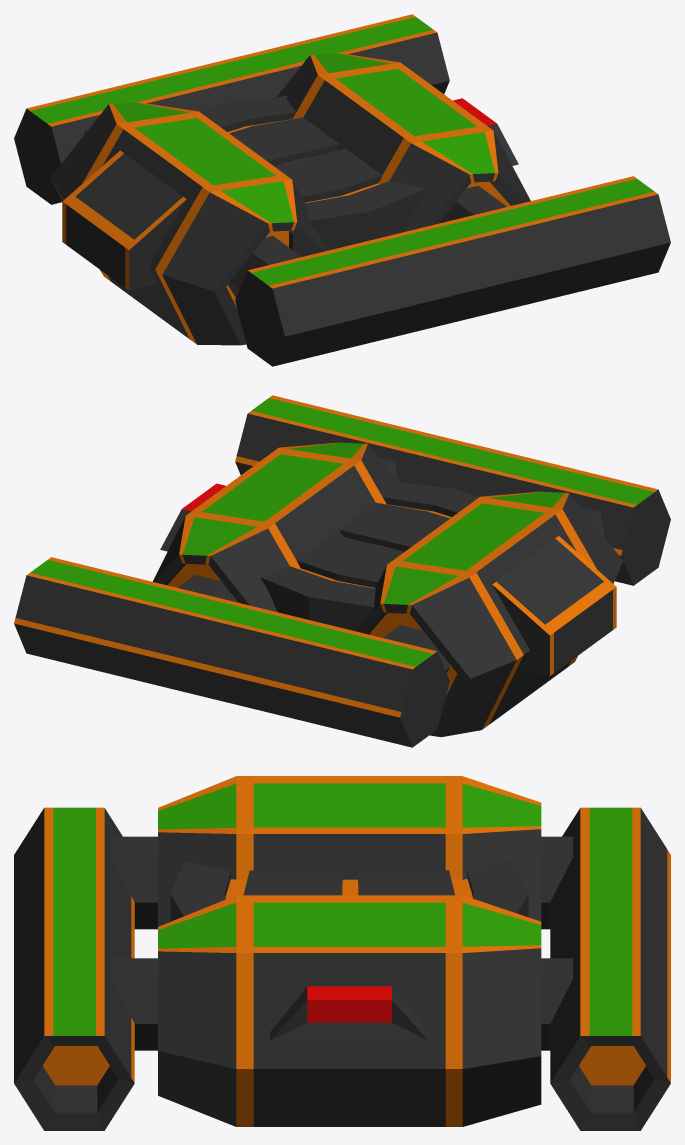
Rendered from mob3.fbx.
The picture shows the model from 3 angles, top to bottom: view 1: azimuth 30°, elevation 25°; view 2: azimuth 150°, elevation 25°; view 3: azimuth 270°, elevation 25°; orthographic projection. The views are drawn at different scales.
Visible parts, largest first — view 1: Cylinder.003, Cylinder.005, Cylinder, Cylinder.002, Cube.002, Cube.001, Cylinder.006, Cylinder.004, Cube; view 2: Cylinder.002, Cylinder.005, Cylinder, Cylinder.003, Cube.002, Cube.001, Cylinder.007, Cylinder.001, Cube; view 3: Cylinder, Cylinder.005, Cylinder.003, Cylinder.002, Cube.002, Cube, Cylinder.006, Cylinder.004, Cylinder.007, Cylinder.001.
Boxes of the visible parts, x1,y1,x2,y2 form: Cylinder.003: (235,176,670,366); Cylinder.005: (50,102,329,345); Cylinder: (277,53,530,232); Cylinder.002: (14,14,449,204); Cube.002: (200,96,425,256); Cube.001: (62,150,186,290); Cylinder.006: (228,236,301,297); Cylinder.004: (439,185,506,223); Cube: (453,98,518,165); Cylinder.002: (14,557,449,747); Cylinder.005: (356,491,622,737); Cylinder: (152,442,397,612); Cylinder.003: (235,395,670,585); Cube.002: (260,480,478,634); Cube.001: (492,536,616,675); Cylinder.007: (383,625,450,672); Cylinder.001: (178,575,237,602); Cube: (160,483,225,551); Cylinder: (158,895,541,1126); Cylinder.005: (158,776,541,926); Cylinder.003: (14,807,134,1130); Cylinder.002: (550,807,670,1130); Cube.002: (170,859,528,921); Cube: (270,986,429,1041); Cylinder.006: (111,836,157,929); Cylinder.004: (111,958,157,1050); Cylinder.007: (541,836,573,929); Cylinder.001: (541,958,573,1050).
Size of the model in its own units: 527 by 181 by 567.
